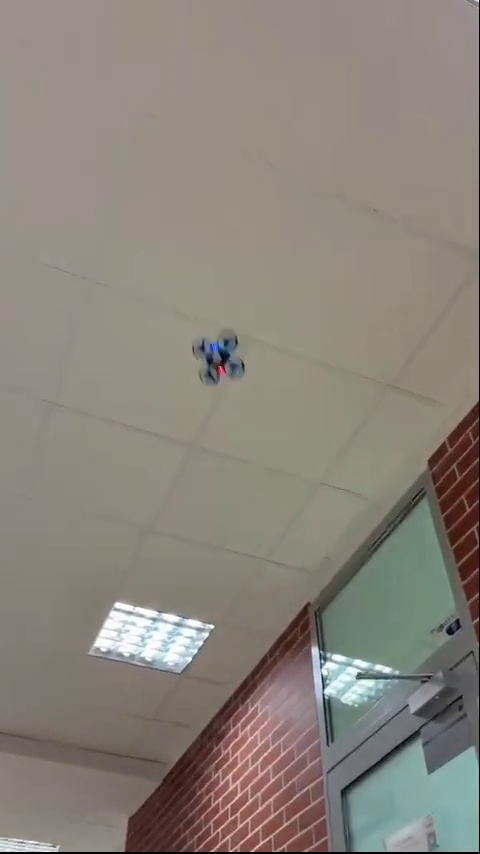drone: (194, 330, 249, 388)
